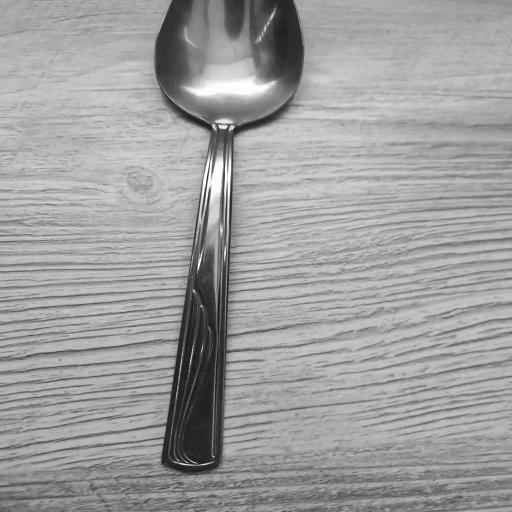spoon: (152, 0, 302, 471)
